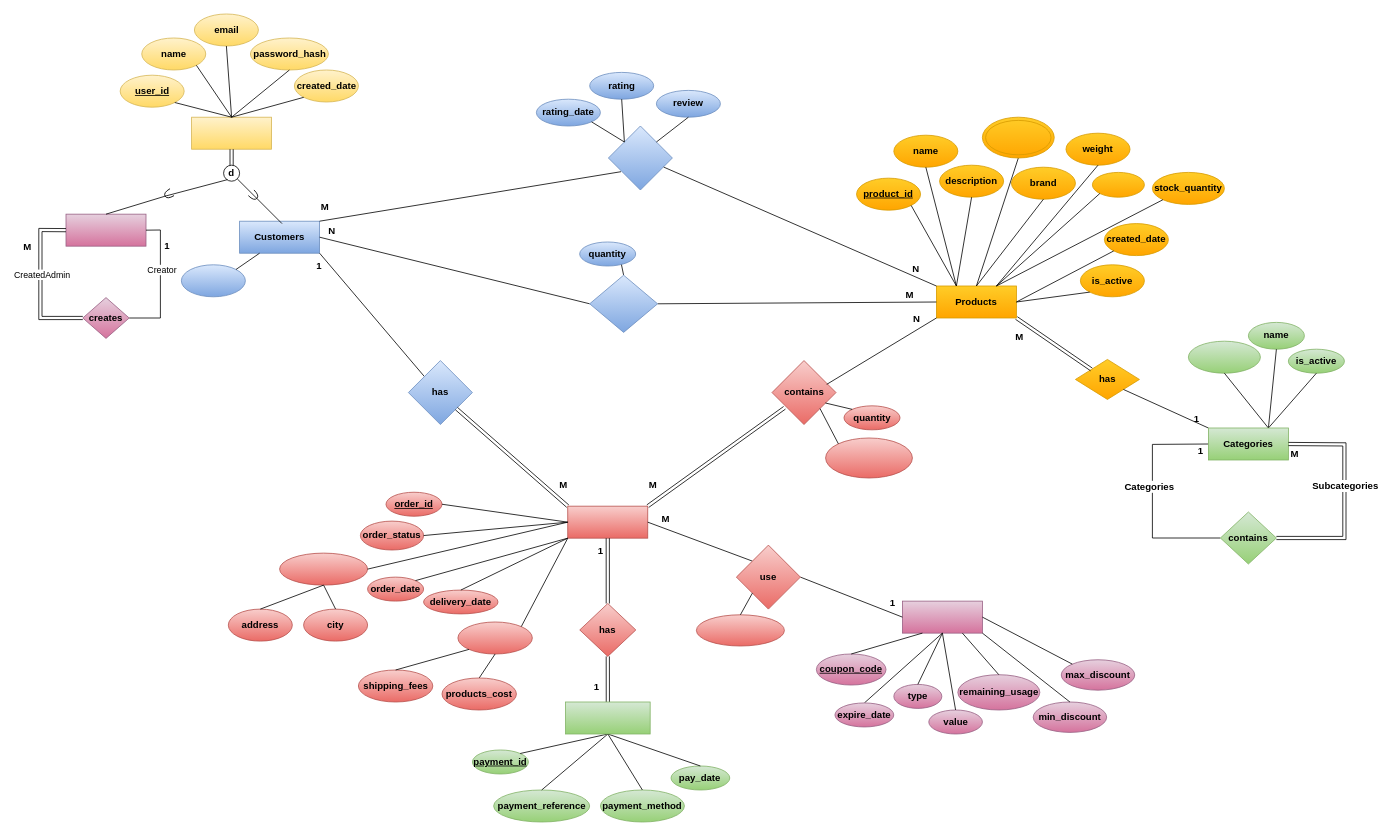
Some shapes in this 1392 by 836 pixel diagram are drawn without their labels. Here are the shapes that lost their labels. From the top down, the centre of each, then its label:
At point 231,132: "Users".
At point 1018,137: "image_url".
At point 640,157: "rates".
At point 1118,184: "price".
At point 105,229: "Admins".
At point 213,280: "phone".
At point 623,303: "has_in_cart".
At point 1224,356: "category_id".
At point 868,457: "purchased_price".
At point 607,521: "Orders".
At point 323,568: "shipping_address".
At point 740,630: "applied_discount".
At point 942,616: "Coupons".
At point 494,637: "total_cost".
At point 607,717: "Payments".
